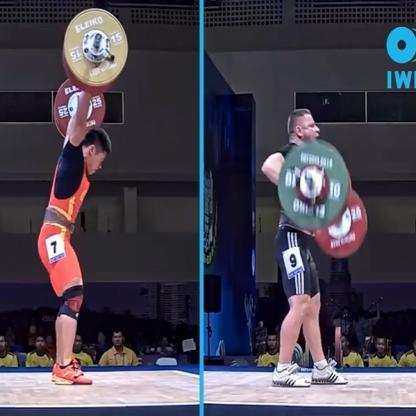barbell: (278, 139, 368, 259), (52, 8, 129, 144)
